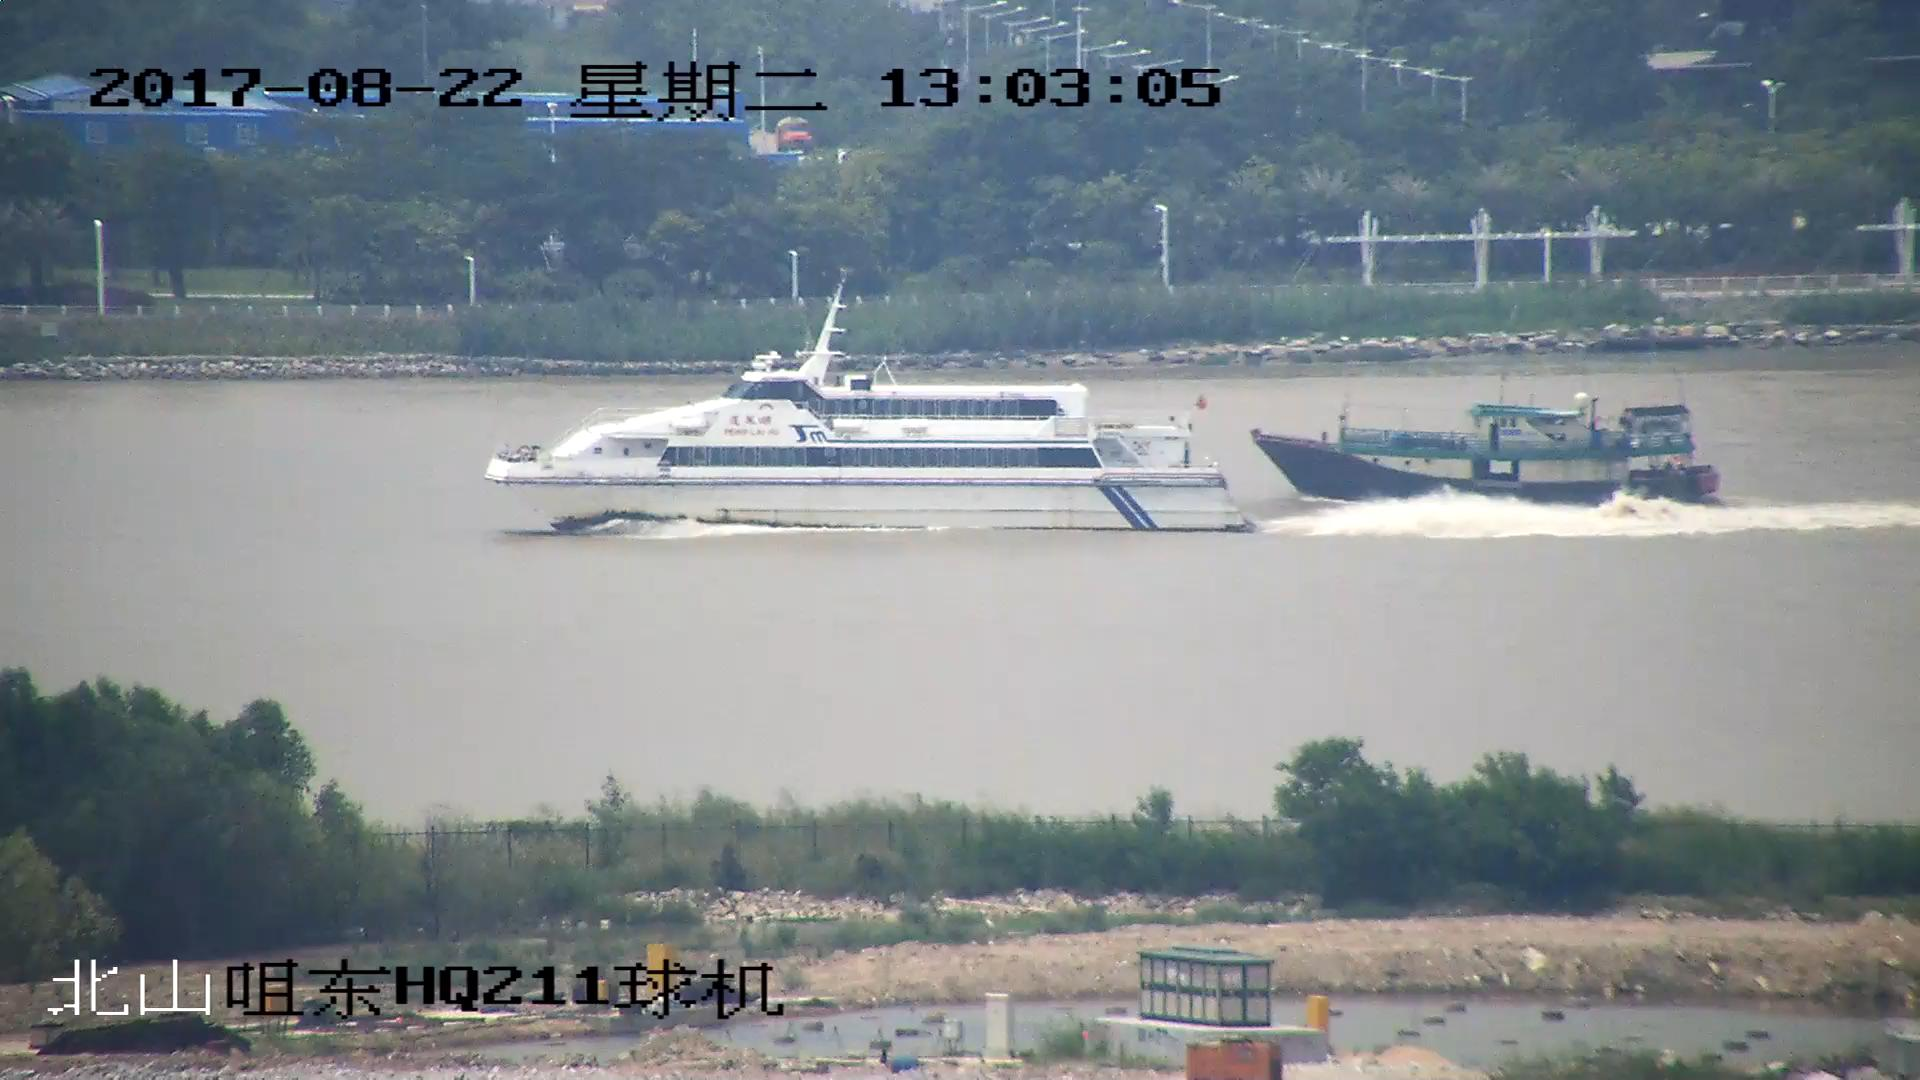fishing boat: (1250, 391, 1718, 505)
passenger ship: (487, 288, 1253, 542)
